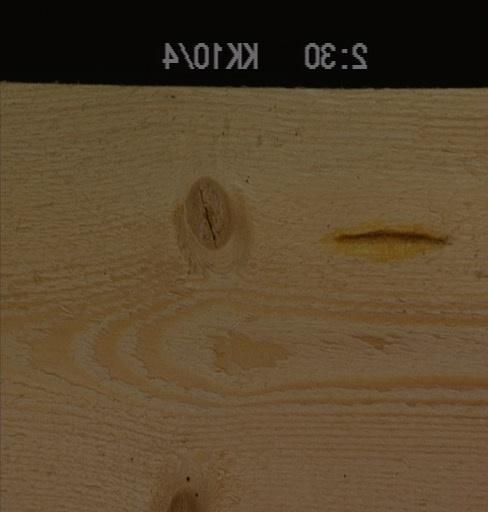edge_knot: (159, 471, 204, 510)
sound_knot: (182, 173, 235, 253)
